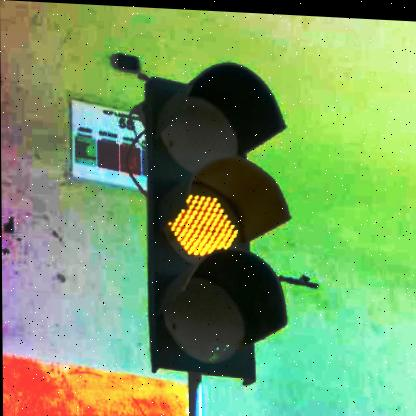Traffic Light -Yellow-: (145, 61, 284, 380)
